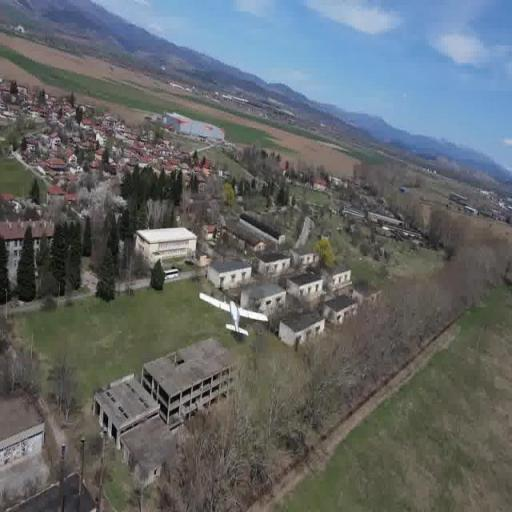uav: (195, 283, 271, 341)
